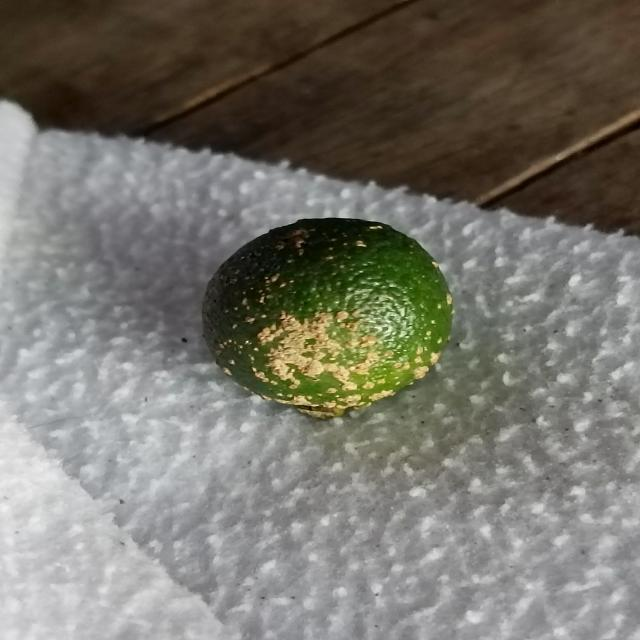scab: (202, 216, 452, 418)
